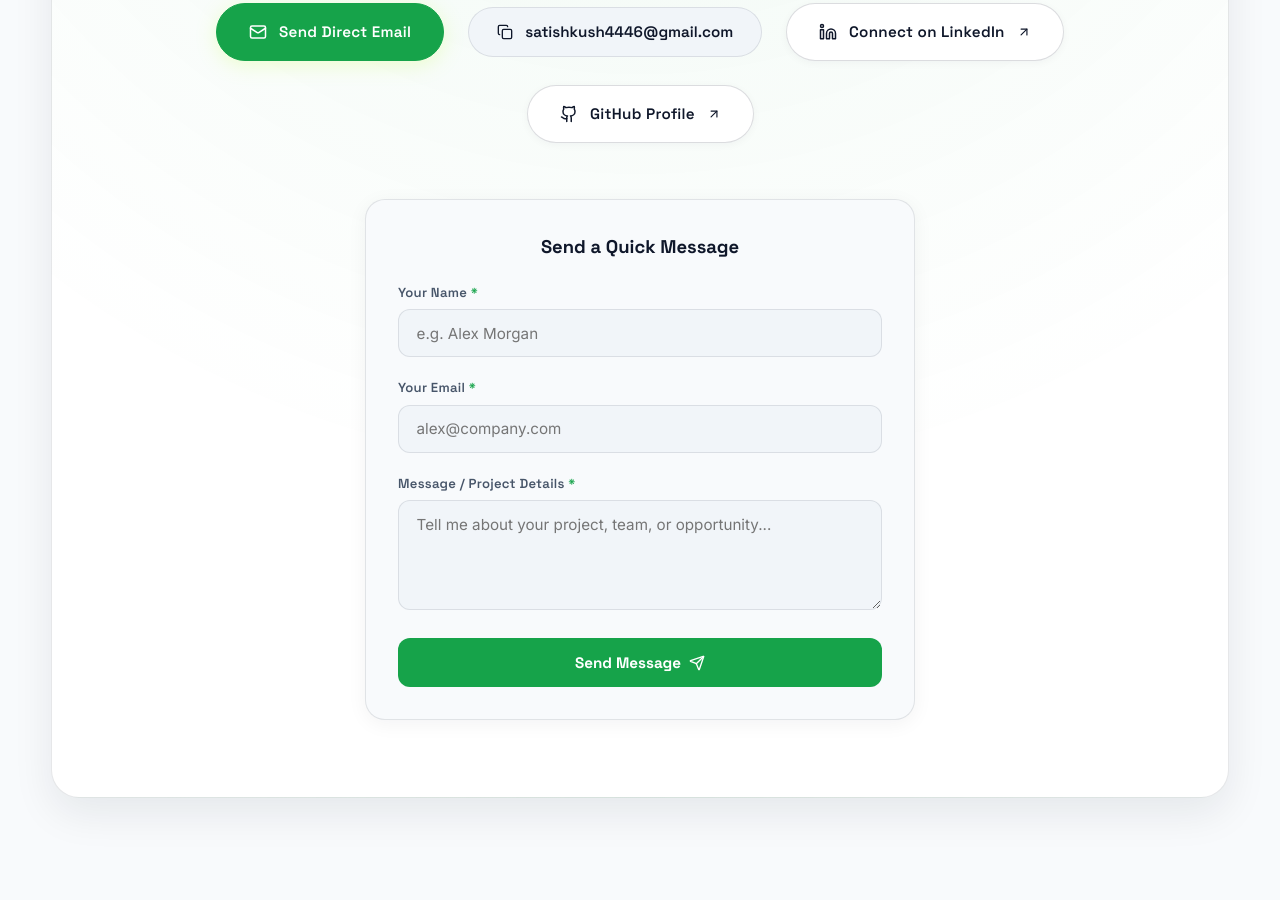
Test case: Contact Section & Form › validates empty name and displays error message
This screenshot has width=1280, height=900.
(page scrolled)
Click the button "Send Message": (640, 663) top-left (398, 638), bottom-right (882, 687)
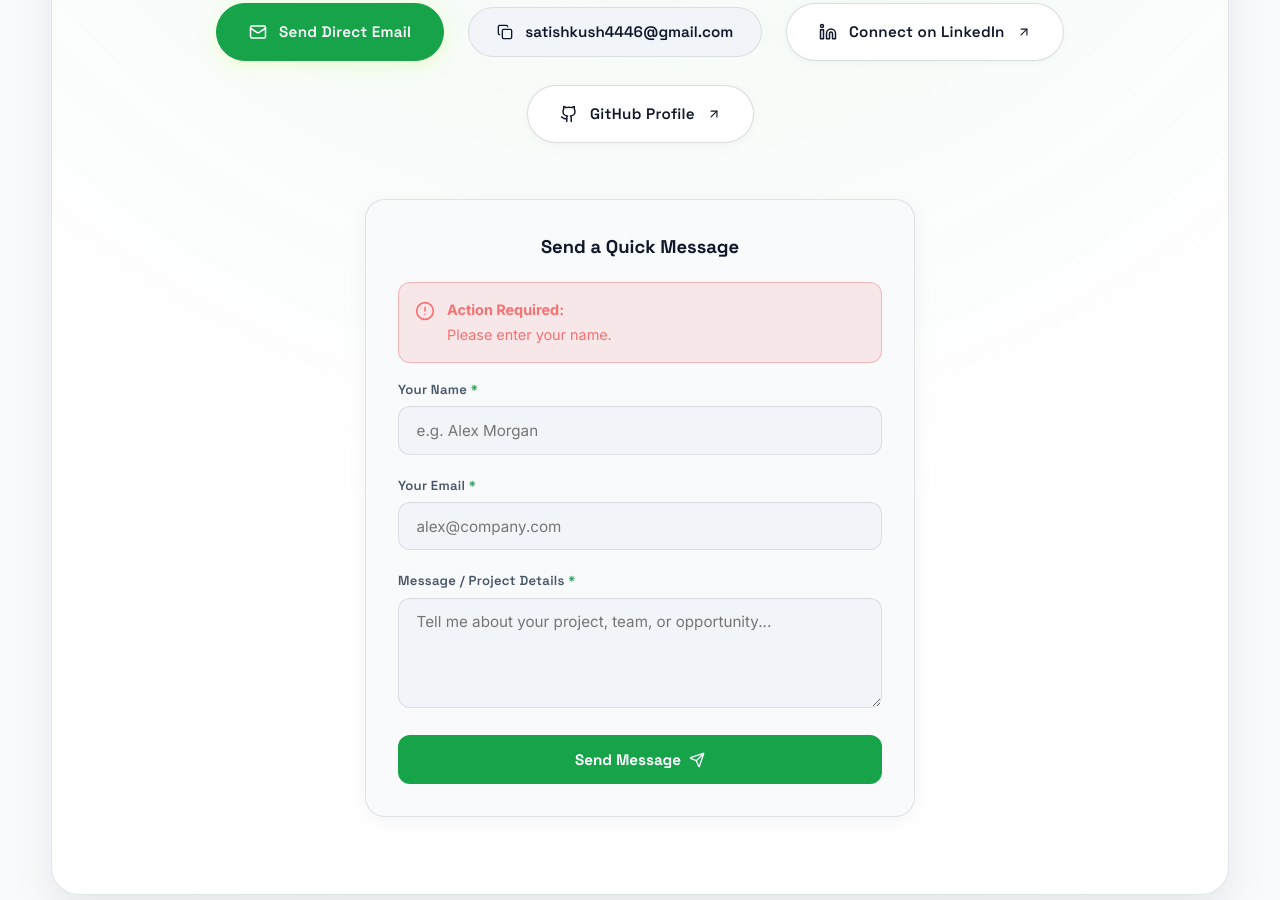
Expected: the text "Please enter your name." is shown, top-left (447, 324), bottom-right (612, 346)
